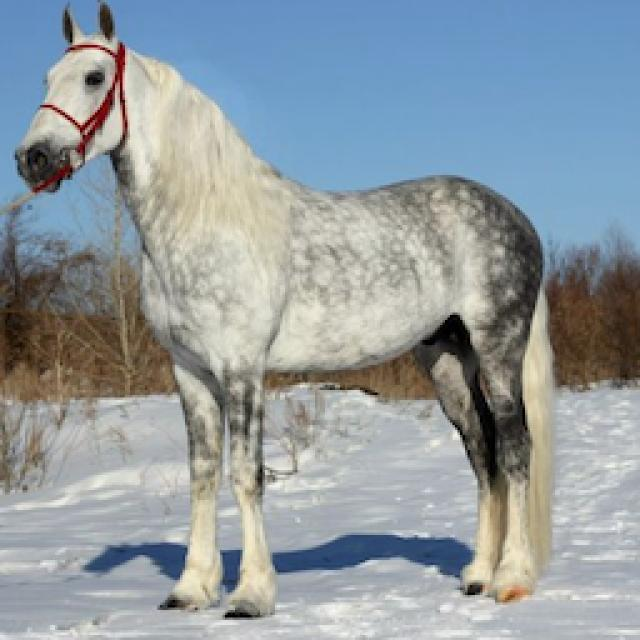Horse: (7, 0, 567, 622)
